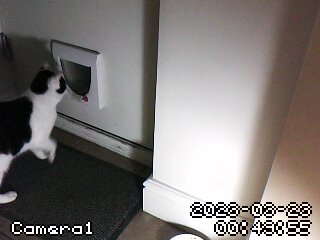bad: (5, 61, 71, 221)
